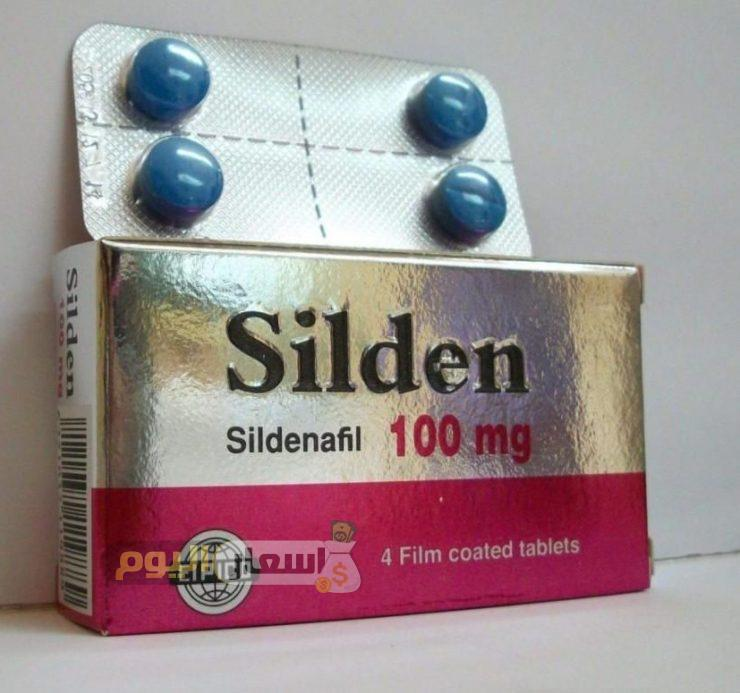Medicine: (48, 222, 662, 642)
